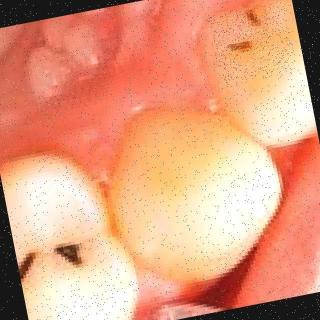cavities: (1, 202, 95, 306), (224, 0, 278, 80)
